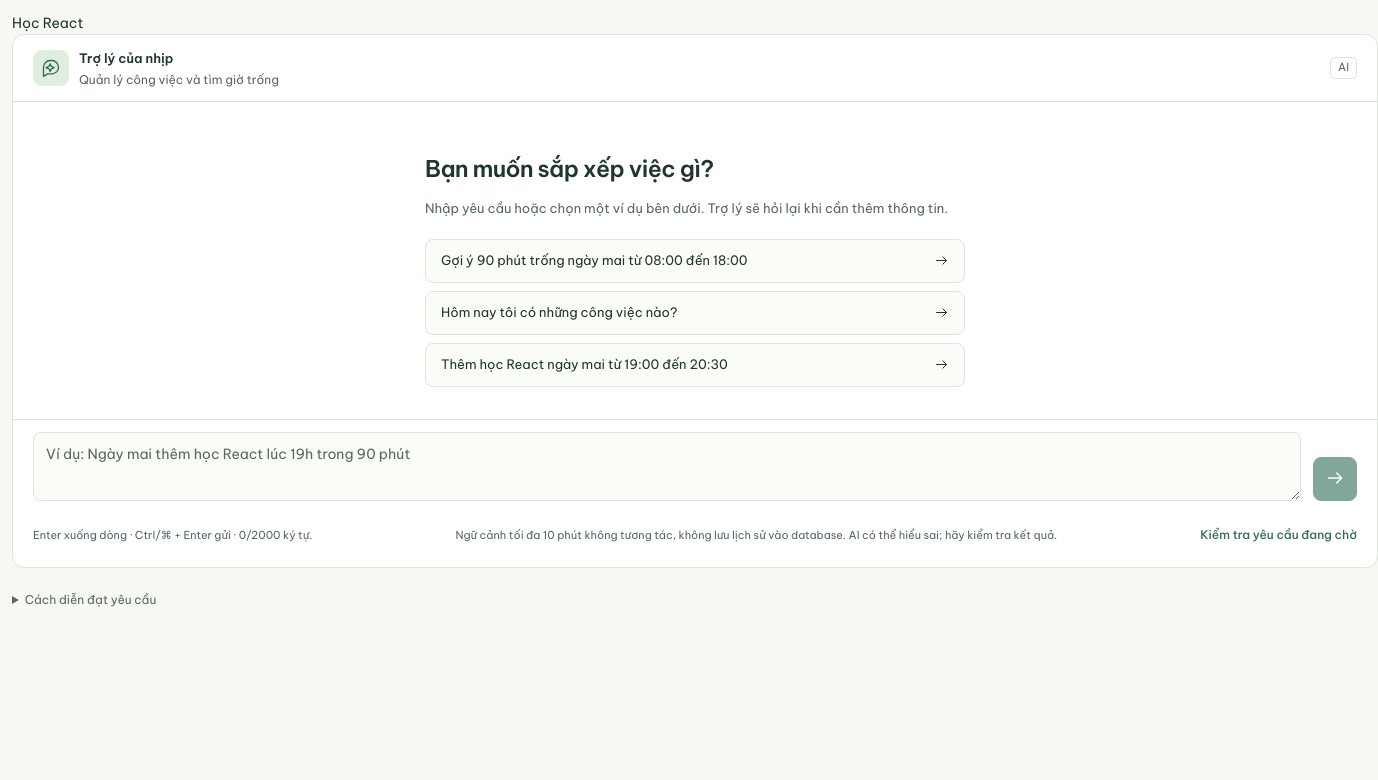
it: provider HTTP 429 preserves input, does not retry or refresh task data
Expected: the text named "Existing tasks" reads "Học React", 12,14 -> 83,32
Step 1. Type "Tạo việc mới" into the text box named "Nội dung yêu cầu" → (667, 467), box 33,432 -> 1301,501
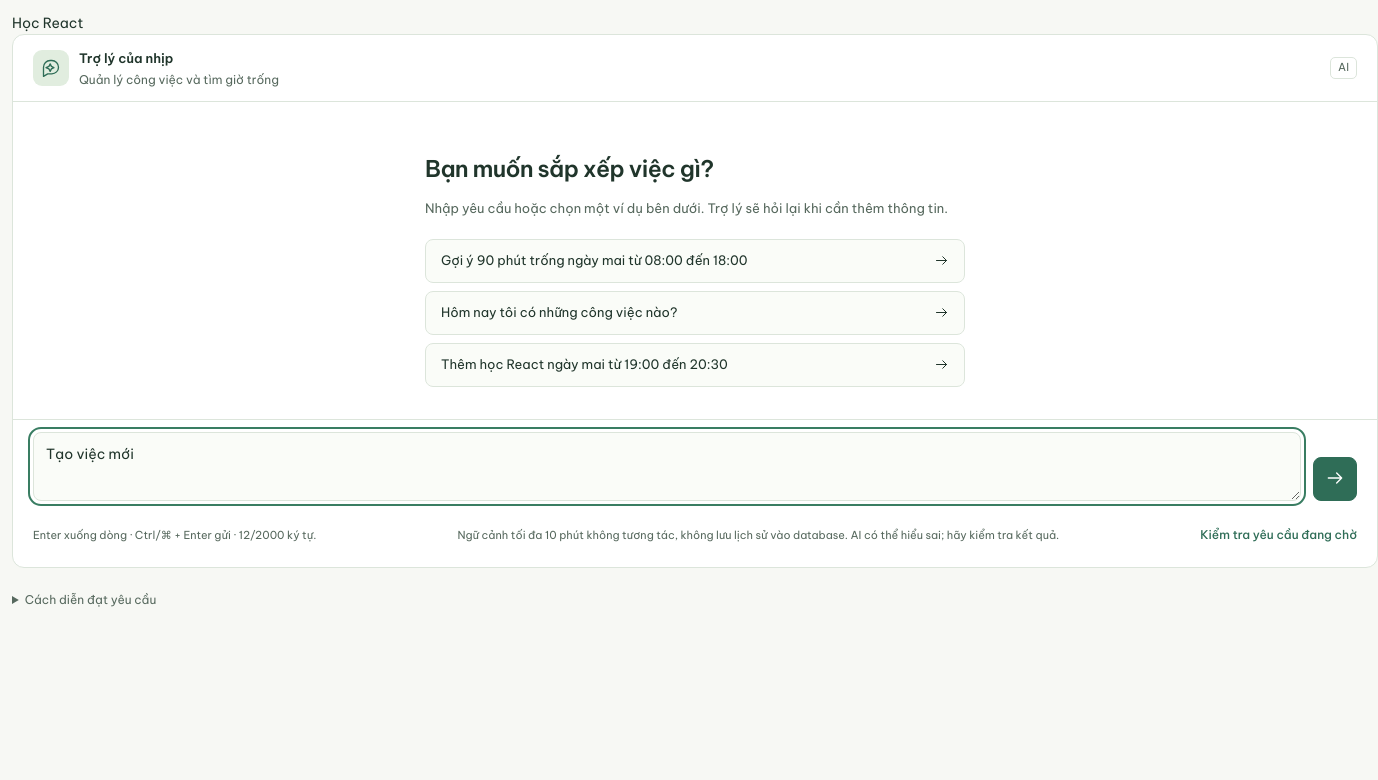
Step 2. Click the button named "Gửi yêu cầu" → click(1335, 479), box 1313,457 -> 1357,501
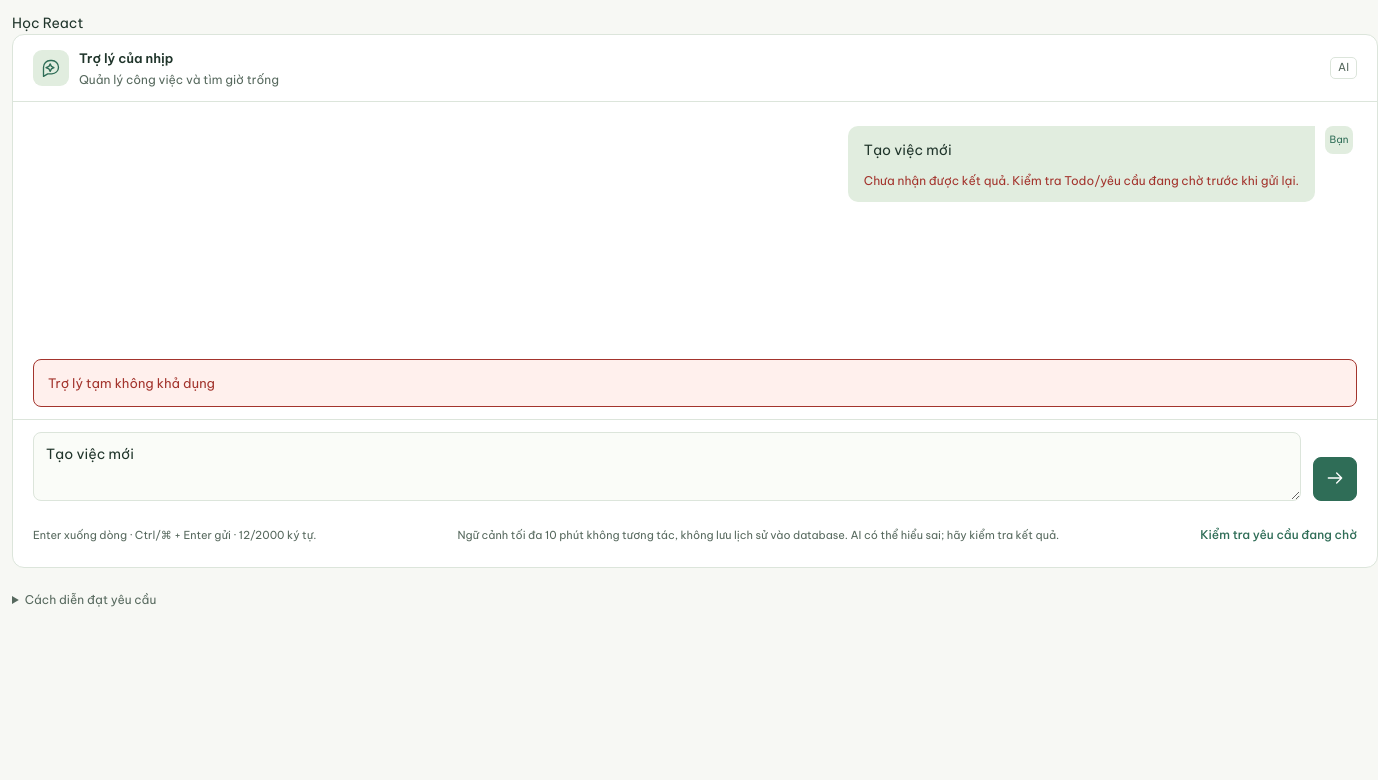
Expected: the text box named "Nội dung yêu cầu" is enabled, 33,432 -> 1301,501
Now the message shows "tạm không khả dụng", box 48,375 -> 215,391
